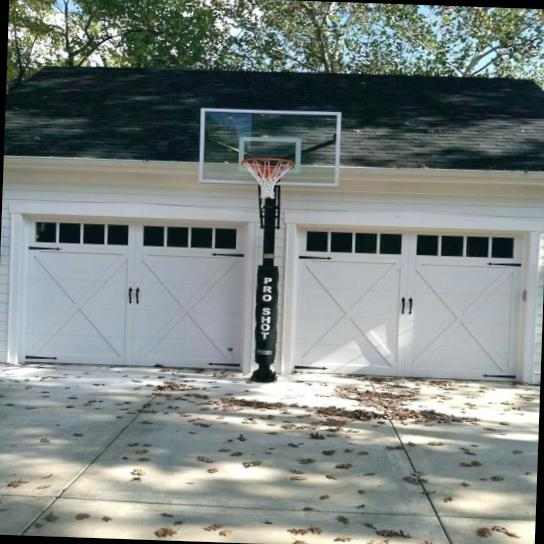basketball-hoop: (236, 156, 300, 202)
